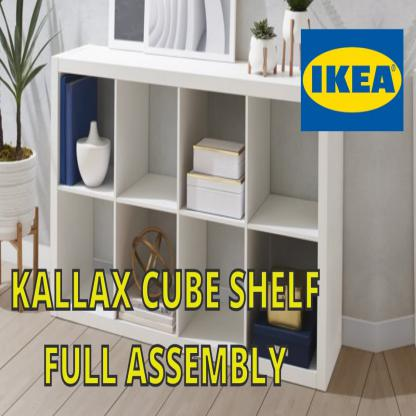lamp: (48, 40, 344, 392)
